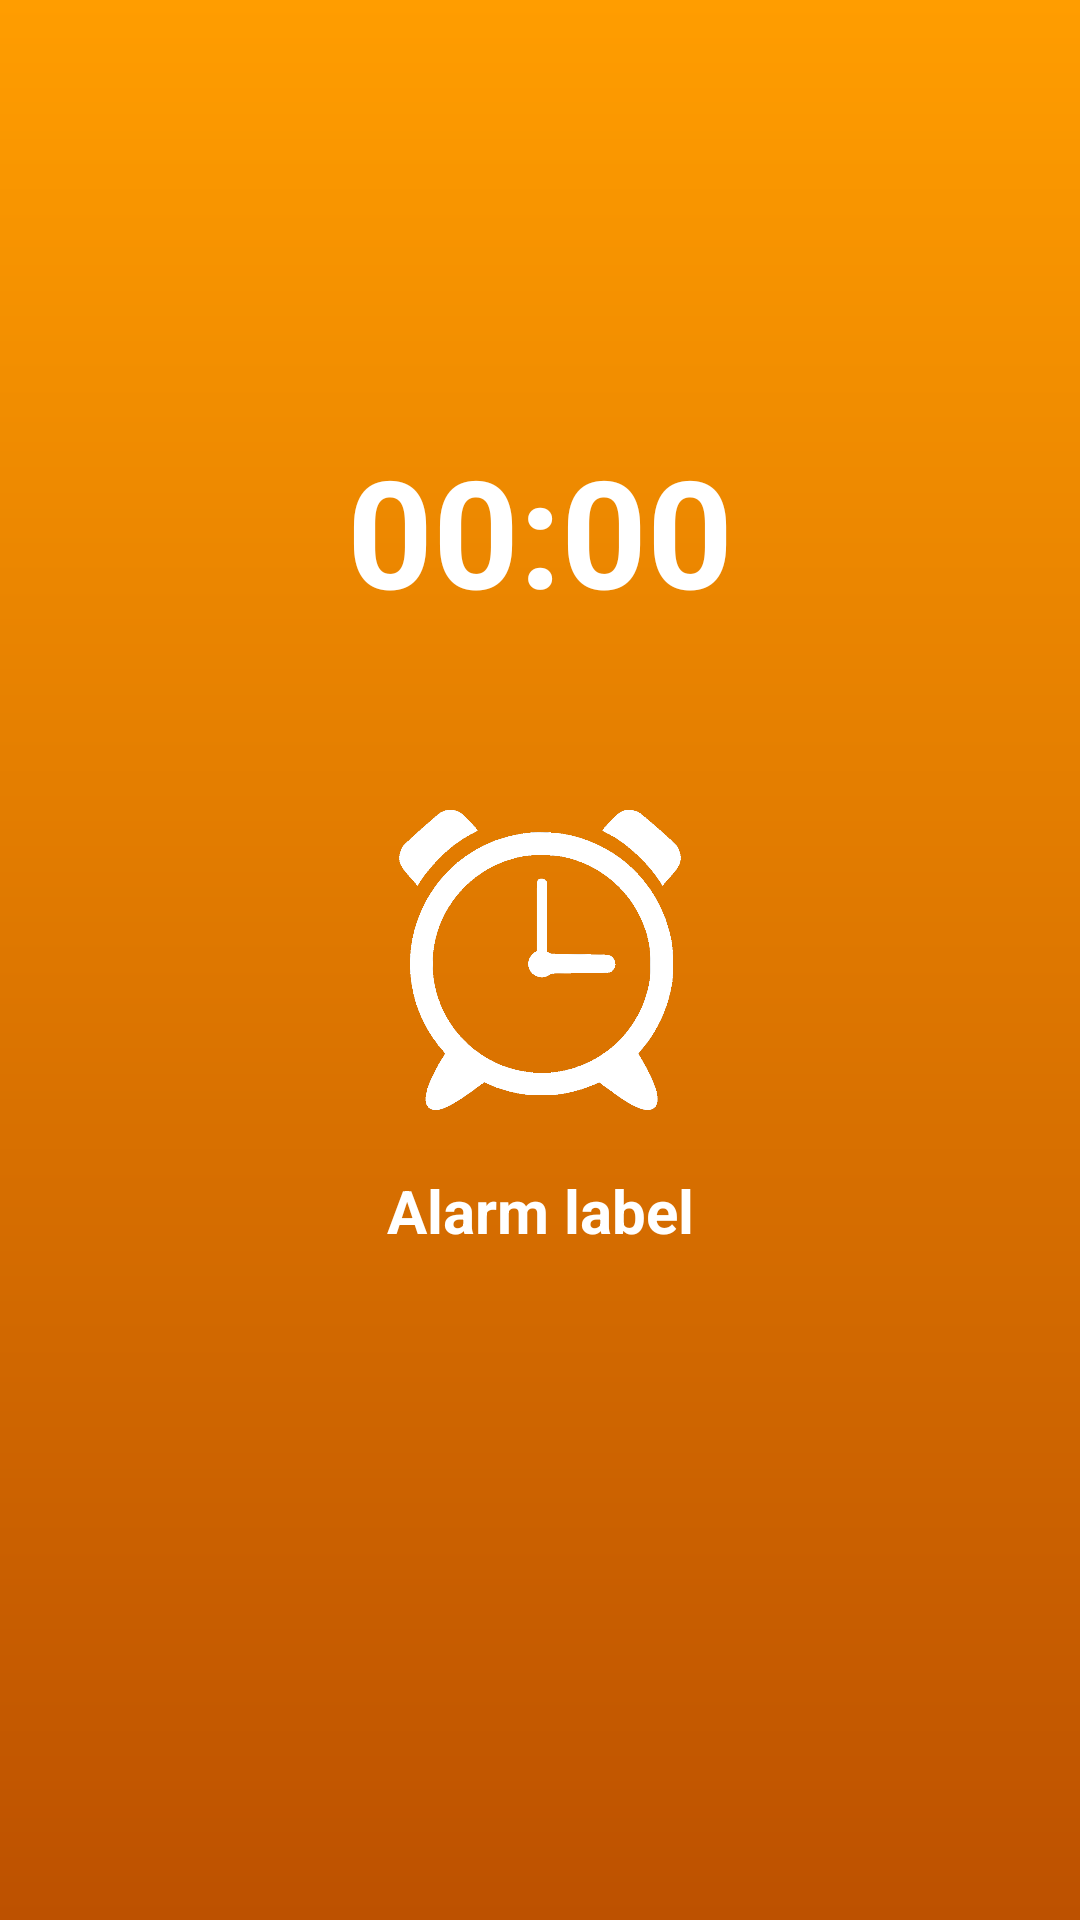

Screen size 1080x1920. Icon name, then its center in pixels as [x,y]:
alarmwhite: [540,960]
